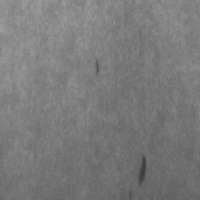inclusion: (125, 152, 150, 199), (89, 54, 104, 80)
